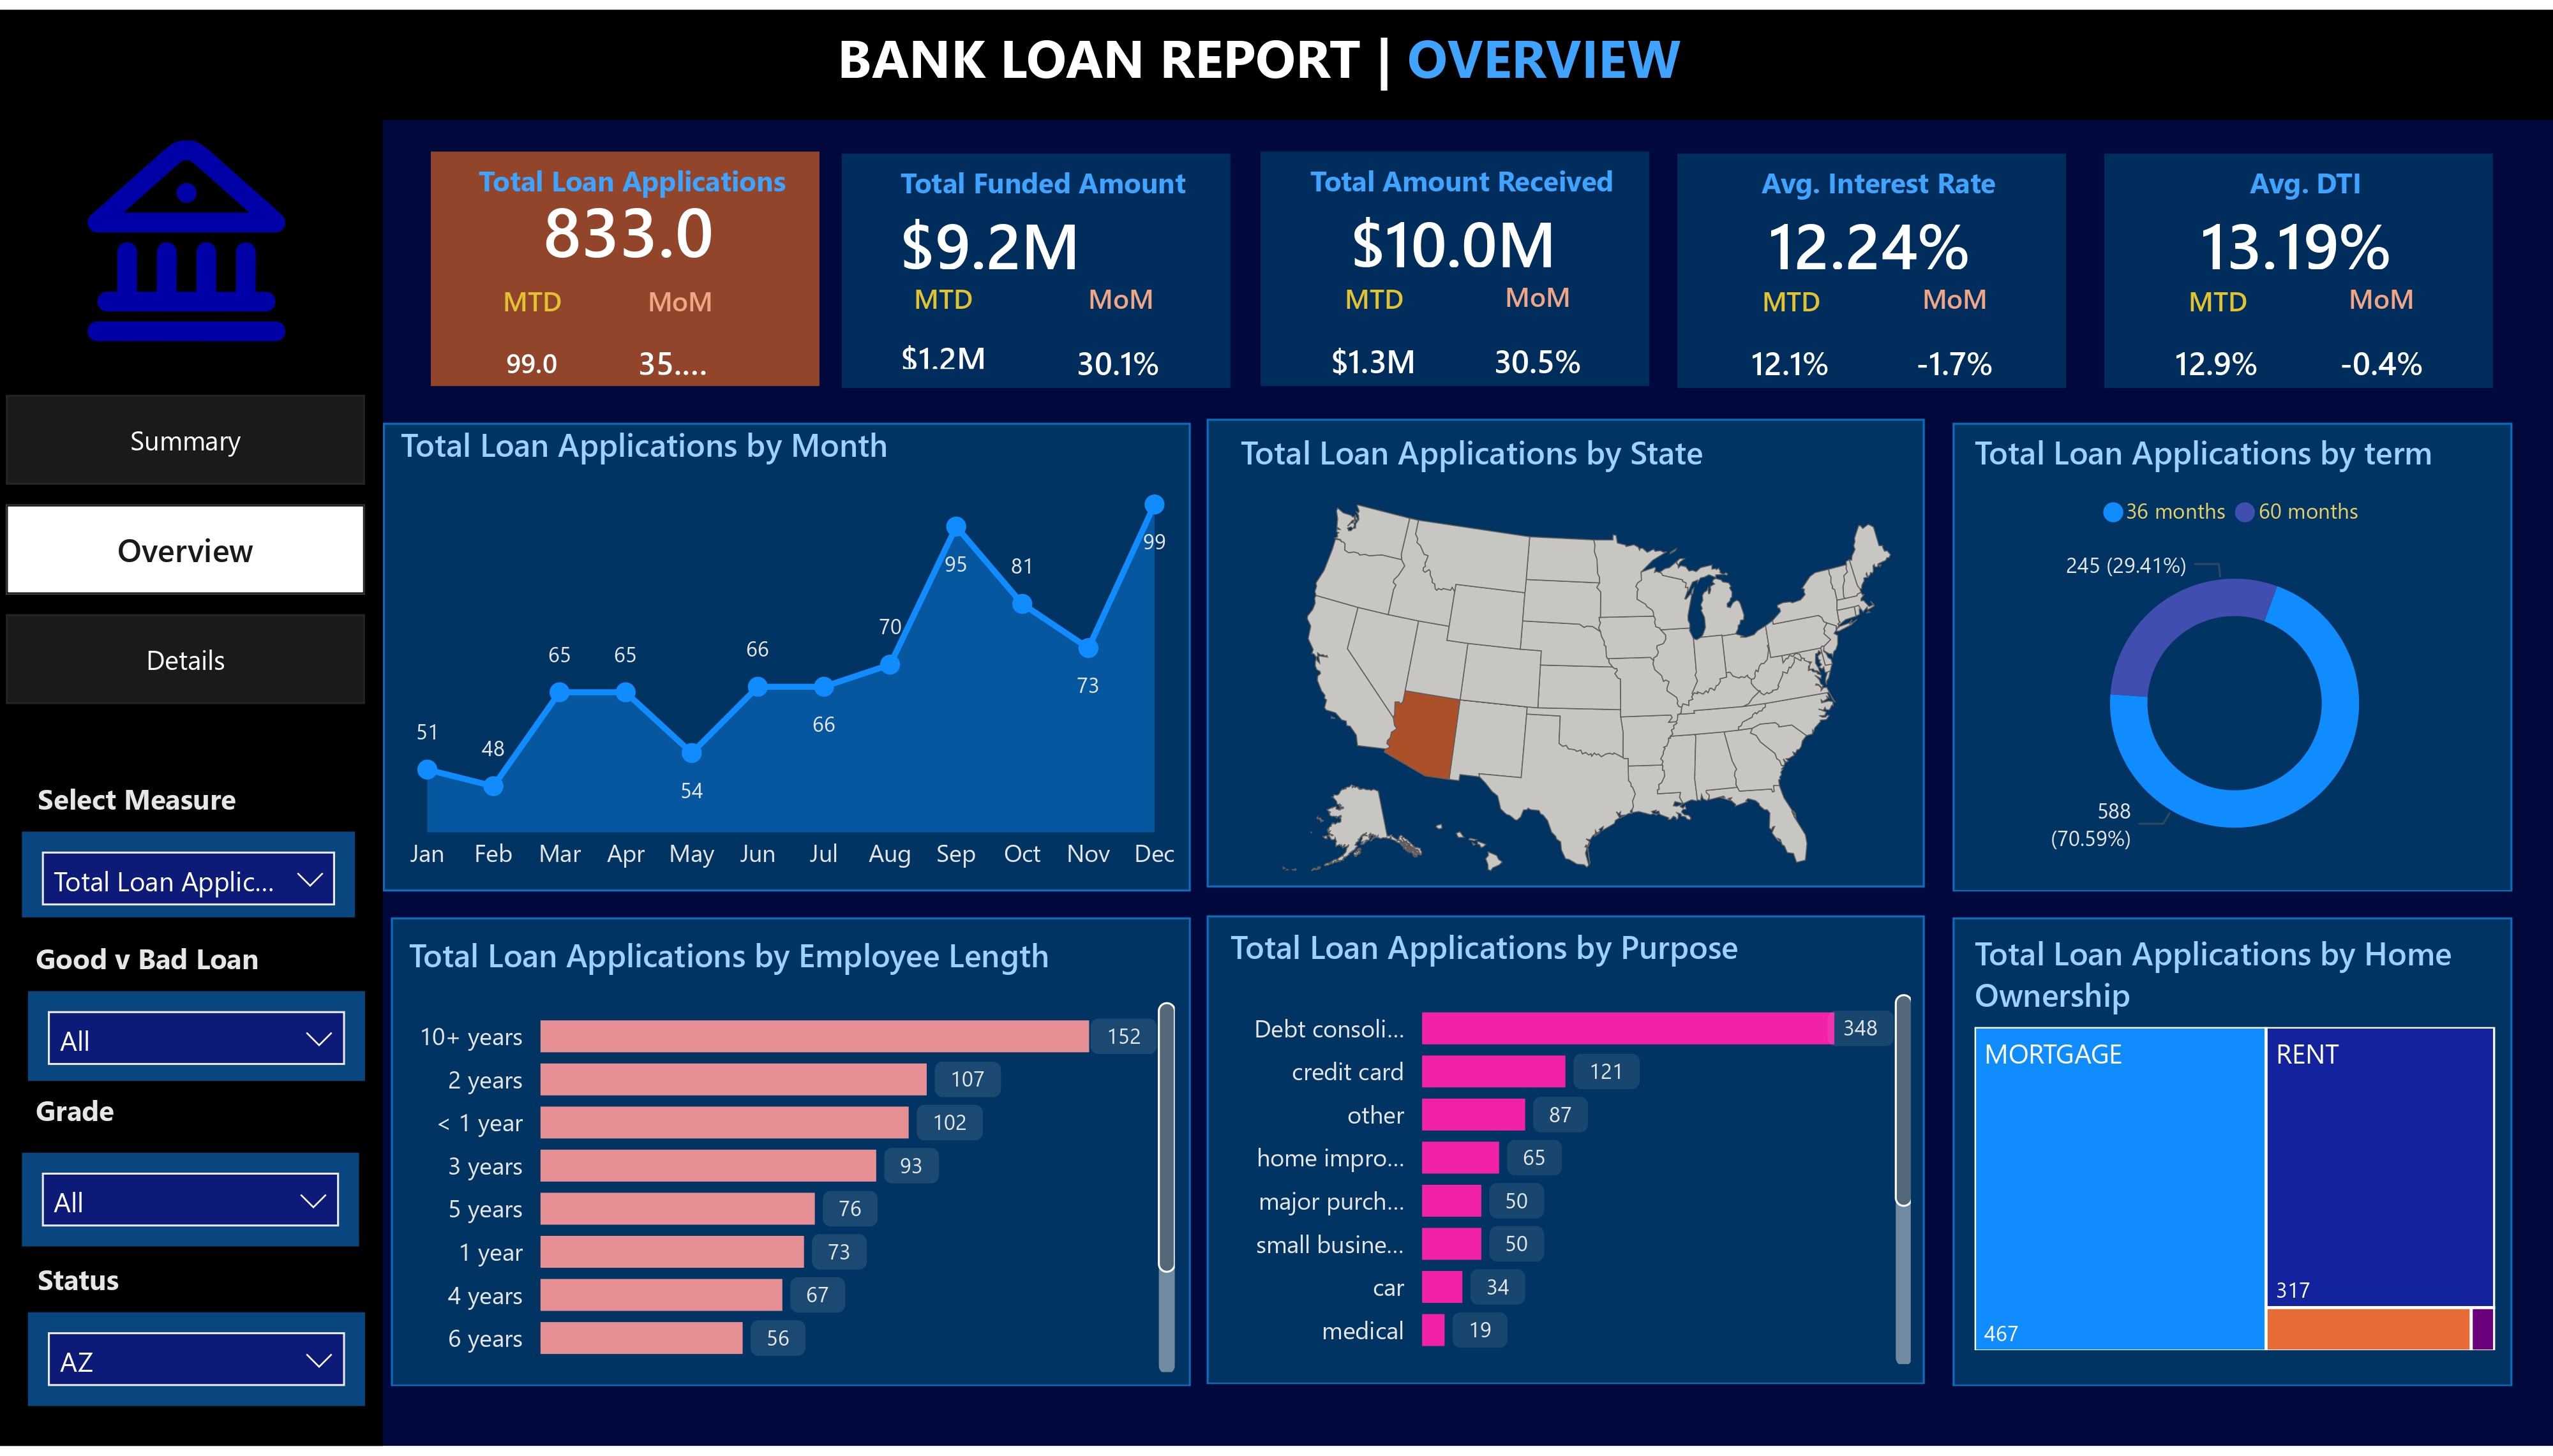

Layout of this report page (visuals, bound fields, positions):
{"tool":"powerbi","page":{"name":"Overview","canvas":[1280,720],"ordinal":1},"visuals":[{"type":"shape","box":[0,0,1280,55],"z":0},{"type":"shape","box":[216.3,70.9,194.9,117.6],"z":0,"group":"g1"},{"type":"shape","box":[632.3,70.9,194.9,117.6],"z":0,"group":"g3"},{"type":"shape","box":[422.4,72.3,194.9,117.6],"z":0,"group":"g2"},{"type":"shape","box":[840.6,72.3,194.9,117.6],"z":0,"group":"g4"},{"type":"shape","box":[1054.7,72.3,194.9,117.6],"z":0,"group":"g5"},{"type":"shape","box":[0,55.4,192,665.2],"z":1000},{"type":"cardVisual","fields":{"Data":["Measure Table (2).Total Loan Applications"]},"box":[215.4,76,200.7,66],"z":1000,"group":"g1"},{"type":"cardVisual","fields":{"Data":["Measure Table (2).Total Received Amount"]},"box":[632.3,82.9,193,63],"z":1000,"group":"g3"},{"type":"cardVisual","fields":{"Data":["Measure Table (2).Total Funded Amount"]},"box":[422.4,84.3,193,63],"z":1000,"group":"g2"},{"type":"cardVisual","fields":{"Data":["Measure Table (2).Average Interest Rate"]},"box":[840.6,84.3,193,63],"z":1000,"group":"g4"},{"type":"cardVisual","fields":{"Data":["Measure Table (2).Total Avg DTI"]},"box":[1054.7,84.3,193,63],"z":1000,"group":"g5"},{"type":"textbox","box":[414.9,0,448.5,57.1],"z":2000},{"type":"textbox","box":[233.4,71,168,35],"z":2000,"group":"g1"},{"type":"textbox","box":[649.3,71,168,35],"z":2000,"group":"g3"},{"type":"textbox","box":[439.5,72.4,168,35],"z":2000,"group":"g2"},{"type":"textbox","box":[857.6,72.4,168,35],"z":2000,"group":"g4"},{"type":"textbox","box":[1071.7,72.4,168,35],"z":2000,"group":"g5"},{"type":"group","id":"g1","title":"Group 1","box":[215.4,70.9,199.8,129],"z":3000},{"type":"cardVisual","title":"MTD","fields":{"Data":["Measure Table (2).MTD Received Amount"]},"box":[629.3,135.6,120,64.5],"z":3000,"group":"g3"},{"type":"cardVisual","title":"MTD","fields":{"Data":["Measure Table (2).MTD Funded Amount"]},"box":[413.3,136.2,120,61.4],"z":3000,"group":"g2"},{"type":"cardVisual","title":"MTD","fields":{"Data":["Measure Table (2).MTD Loan Applications"]},"box":[221.4,137,91.7,63.3],"z":3000,"group":"g1"},{"type":"cardVisual","title":"MTD","fields":{"Data":["Measure Table (2).MTD Avg Interest Rate"]},"box":[837.6,137,120,64.5],"z":3000,"group":"g4"},{"type":"cardVisual","title":"MTD","fields":{"Data":["Measure Table (2).MTD Avg DTI"]},"box":[1051.7,137,120,64.5],"z":3000,"group":"g5"},{"type":"group","id":"g2","title":"Group 1","box":[413.3,72.3,203.9,129.3],"z":4000},{"type":"cardVisual","title":"MoM","fields":{"Data":["Measure Table (2).MoM Received Amount"]},"box":[720.7,134.9,102,65.3],"z":4000,"group":"g3"},{"type":"cardVisual","title":"MoM","fields":{"Data":["Measure Table (2).MoM Funded Amount"]},"box":[510.8,136.3,102,65.3],"z":4000,"group":"g2"},{"type":"cardVisual","title":"MoM","fields":{"Data":["Measure Table (2).MoM Avg Interest Rate"]},"box":[929,136.3,102,65.3],"z":4000,"group":"g4"},{"type":"cardVisual","title":"MoM","fields":{"Data":["Measure Table (2).MoM Avg DTI"]},"box":[1143.1,136.3,102,65.3],"z":4000,"group":"g5"},{"type":"cardVisual","title":"MoM","fields":{"Data":["Measure Table (2).MoM Loan Application"]},"box":[291.4,137,100,63.3],"z":4000,"group":"g1"},{"type":"group","id":"g3","title":"Group 1","box":[629.3,70.9,198.4,129],"z":5000},{"type":"group","id":"g4","title":"Group 1","box":[837.6,72.3,197,129],"z":6000},{"type":"shape","box":[191.7,206.7,405,235],"z":7000},{"type":"group","id":"g5","title":"Group 1","box":[1051.7,72.3,197,129],"z":8000},{"type":"shape","box":[195.6,455,401.1,235.3],"z":9000},{"type":"shape","box":[605,205,360,235],"z":10000},{"type":"shape","box":[605.2,453.5,360,235.3],"z":11000},{"type":"shape","box":[979.4,206.9,280.6,235.3],"z":12000},{"type":"shape","box":[979.4,455,280.6,235.3],"z":13000},{"type":"slicer","fields":{"Values":["financial_loan.Good Loan Vs Bad Loan"]},"box":[14.2,491.8,168.7,45.4],"z":14000},{"type":"slicer","fields":{"Values":["financial_loan.grade"]},"box":[11.3,572.6,168.7,46.8],"z":15000},{"type":"slicer","fields":{"Values":["financial_loan.address_state"]},"box":[14.2,653.4,168.7,46.8],"z":16000},{"type":"textbox","box":[14.2,622.2,126.1,31.2],"z":17000},{"type":"textbox","box":[12.8,460.6,148.8,31.2],"z":18000},{"type":"textbox","box":[12.8,537.2,87.9,35.4],"z":19000},{"type":"areaChart","fields":{"Y":["Measure Table (2).Total Loan Applications"],"Category":["Date Table.MonthName"]},"box":[195.6,206.9,401.1,233.9],"z":20000},{"type":"textbox","box":[14.2,381.3,126.1,31.2],"z":21000},{"type":"slicer","fields":{"Values":["Select Measure.Select Measure"]},"box":[11.3,412.4,167.2,42.5],"z":22000},{"type":"shapeMap","fields":{"Value":["Measure Table (2).Total Loan Applications"],"Category":["financial_loan.address_state"]},"box":[616.5,211.2,357.2,235.3],"z":23000},{"type":"donutChart","fields":{"Y":["Measure Table (2).Total Loan Applications"],"Category":["financial_loan.term"]},"box":[985,211.2,270.7,225.4],"z":24000},{"type":"barChart","fields":{"Y":["Measure Table (2).Total Loan Applications"],"Category":["financial_loan.emp_length"]},"box":[199.8,463.5,394,225.4],"z":25000},{"type":"barChart","fields":{"Y":["Measure Table (2).Total Loan Applications"],"Category":["financial_loan.purpose"]},"box":[612.3,459.2,351.5,225.4],"z":26000},{"type":"treemap","fields":{"Values":["Measure Table (2).Total Loan Applications"],"Group":["financial_loan.home_ownership"]},"box":[985,462,270.7,215.4],"z":27000},{"type":"pageNavigator","box":[2.8,192.8,180,155.9],"z":28000},{"type":"image","box":[31.2,56.7,124.7,119.1],"z":29000}]}

Visuals, with their boxes in screenshot pixels (x1, y1, x2, y2), scaled from the page's 1280x720 canvas onto the 2553x1456 screenshot:
shape: box(0, 0, 2552, 111)
shape: box(431, 144, 820, 381)
shape: box(1261, 144, 1650, 381)
shape: box(842, 146, 1231, 384)
shape: box(1677, 146, 2065, 384)
shape: box(2104, 146, 2492, 384)
shape: box(0, 112, 383, 1455)
cardVisual - Measure Table (2).Total Loan Applications: box(430, 154, 830, 287)
cardVisual - Measure Table (2).Total Received Amount: box(1261, 168, 1646, 295)
cardVisual - Measure Table (2).Total Funded Amount: box(842, 170, 1227, 298)
cardVisual - Measure Table (2).Average Interest Rate: box(1677, 170, 2062, 298)
cardVisual - Measure Table (2).Total Avg DTI: box(2104, 170, 2489, 298)
textbox: box(828, 0, 1722, 115)
textbox: box(465, 144, 800, 214)
textbox: box(1295, 144, 1630, 214)
textbox: box(876, 146, 1211, 217)
textbox: box(1711, 146, 2046, 217)
textbox: box(2137, 146, 2473, 217)
"Group 1" group: box(430, 144, 828, 405)
"MTD" cardVisual: box(1255, 274, 1495, 405)
"MTD" cardVisual: box(825, 276, 1064, 399)
"MTD" cardVisual: box(442, 277, 624, 405)
"MTD" cardVisual: box(1671, 277, 1910, 408)
"MTD" cardVisual: box(2098, 277, 2337, 408)
"Group 1" group: box(825, 146, 1231, 408)
"MoM" cardVisual: box(1437, 273, 1641, 405)
"MoM" cardVisual: box(1019, 276, 1222, 408)
"MoM" cardVisual: box(1853, 276, 2056, 408)
"MoM" cardVisual: box(2280, 276, 2483, 408)
"MoM" cardVisual: box(581, 277, 781, 405)
"Group 1" group: box(1255, 144, 1651, 405)
"Group 1" group: box(1671, 146, 2063, 407)
shape: box(382, 418, 1190, 893)
"Group 1" group: box(2098, 146, 2490, 407)
shape: box(390, 920, 1190, 1396)
shape: box(1207, 415, 1925, 890)
shape: box(1207, 917, 1925, 1393)
shape: box(1954, 419, 2513, 895)
shape: box(1954, 920, 2513, 1396)
slicer - financial_loan.Good Loan Vs Bad Loan: box(28, 995, 365, 1087)
slicer - financial_loan.grade: box(22, 1158, 359, 1252)
slicer - financial_loan.address_state: box(28, 1321, 365, 1416)
textbox: box(28, 1258, 280, 1321)
textbox: box(26, 932, 322, 995)
textbox: box(26, 1087, 201, 1158)
areaChart - Measure Table (2).Total Loan Applications x Date Table.MonthName: box(390, 419, 1190, 891)
textbox: box(28, 771, 280, 834)
slicer - Select Measure.Select Measure: box(22, 834, 356, 920)
shapeMap - Measure Table (2).Total Loan Applications x financial_loan.address_state: box(1230, 427, 1942, 903)
donutChart - Measure Table (2).Total Loan Applications x financial_loan.term: box(1965, 427, 2504, 883)
barChart - Measure Table (2).Total Loan Applications x financial_loan.emp_length: box(398, 937, 1185, 1393)
barChart - Measure Table (2).Total Loan Applications x financial_loan.purpose: box(1221, 928, 1922, 1385)
treemap - Measure Table (2).Total Loan Applications x financial_loan.home_ownership: box(1965, 934, 2504, 1370)
pageNavigator: box(6, 390, 364, 705)
image: box(63, 115, 311, 355)
